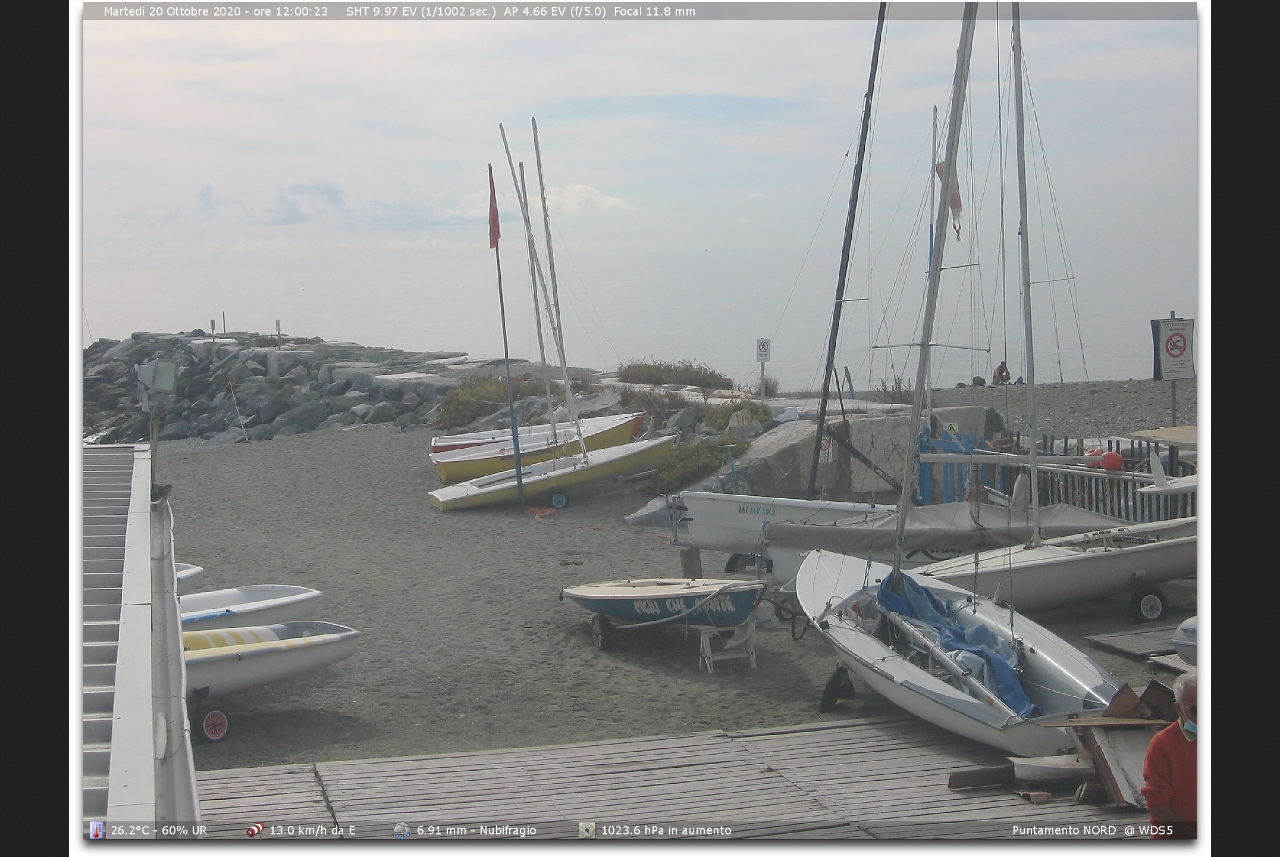no: (480, 154, 507, 260)
